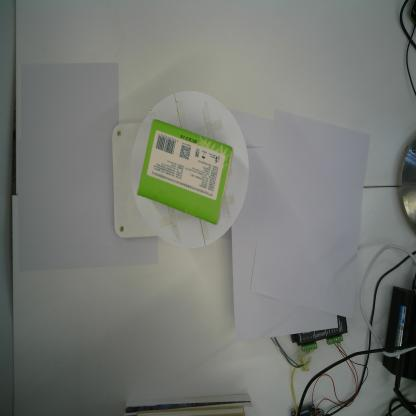Tissue: (136, 118, 232, 224)
